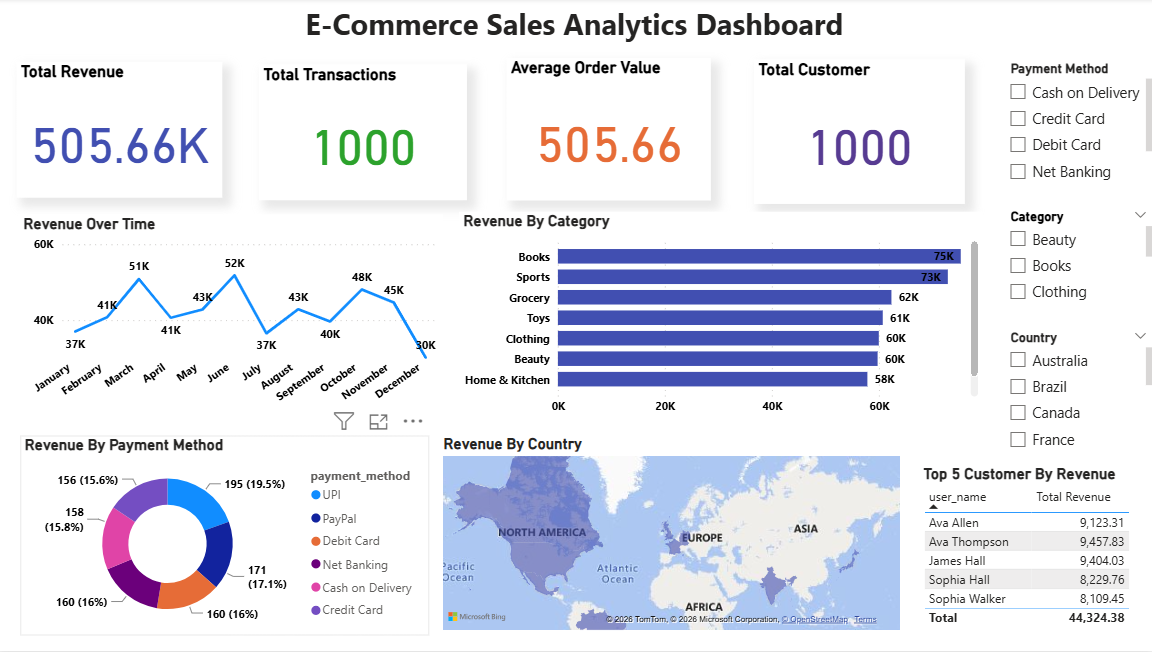

The page's visual inventory and layout, read from the dashboard file:
{"tool":"powerbi","page":{"name":"Page 1","canvas":[1280,720],"ordinal":0},"visuals":[{"type":"card","title":"Total Revenue","fields":{"Values":["transactions.Total Revenue"]},"box":[24.4,70.5,226.4,149.6],"z":0},{"type":"card","title":"Total Transactions","fields":{"Values":["transactions.Total Transactions"]},"box":[291.5,73,229.2,149.6],"z":1000},{"type":"card","title":"Average Order Value","fields":{"Values":["transactions.Average Order Value"]},"box":[564,66.7,225,157],"z":2000},{"type":"card","title":"Total Customer","fields":{"Values":["transactions.Total Customers"]},"box":[835.7,67,231.9,159.5],"z":3000},{"type":"clusteredBarChart","title":"Revenue By Category","fields":{"Category":["categories.category_name"],"Y":["transactions.Total Revenue"]},"box":[494,248.4,576.3,233.3],"z":4000},{"type":"lineChart","title":"Revenue Over Time","fields":{"Y":["transactions.Total Revenue"],"Category":["transactions.transaction_date.Variation.Date Hierarchy.Month"]},"box":[27.7,237.4,466.6,226.4],"z":5000},{"type":"donutChart","title":"Revenue By Payment Method","fields":{"Category":["transactions.payment_method"],"Y":["CountNonNull(transactions.transaction_id)"]},"box":[28.8,481.6,450.4,219.6],"z":6000},{"type":"filledMap","title":"Revenue By Country","fields":{"Category":["customers.country"]},"box":[489.6,479.9,511.6,220],"z":7000},{"type":"slicer","fields":{"Values":["customers.country"]},"box":[1101.5,342.4,178.8,140.3],"z":8000},{"type":"slicer","fields":{"Values":["categories.category_name"]},"box":[1100,222.3,180.3,119.4],"z":9000},{"type":"slicer","fields":{"Values":["transactions.payment_method"]},"box":[1105.7,64.8,174.3,146.8],"z":10000},{"type":"textbox","box":[159.2,1.4,957.8,57.6],"z":11000},{"type":"tableEx","title":"Top 5 Customer By Revenue","fields":{"Values":["customers.user_name","transactions.Total Revenue"]},"box":[1017.6,512.9,262.7,187],"z":12000}]}

Visuals, with their boxes in screenshot pixels (x1, y1, x2, y2), scaled from the page's 1280x720 canvas onto the 1152x652 screenshot:
"Total Revenue" card: [22, 64, 226, 199]
"Total Transactions" card: [262, 66, 469, 202]
"Average Order Value" card: [508, 60, 710, 203]
"Total Customer" card: [752, 61, 961, 205]
"Revenue By Category" clusteredBarChart: [445, 225, 963, 436]
"Revenue Over Time" lineChart: [25, 215, 445, 420]
"Revenue By Payment Method" donutChart: [26, 436, 431, 635]
"Revenue By Country" filledMap: [441, 435, 901, 634]
slicer - customers.country: [991, 310, 1151, 437]
slicer - categories.category_name: [990, 201, 1151, 309]
slicer - transactions.payment_method: [995, 59, 1151, 192]
textbox: [143, 1, 1005, 53]
"Top 5 Customer By Revenue" tableEx: [916, 464, 1151, 634]
